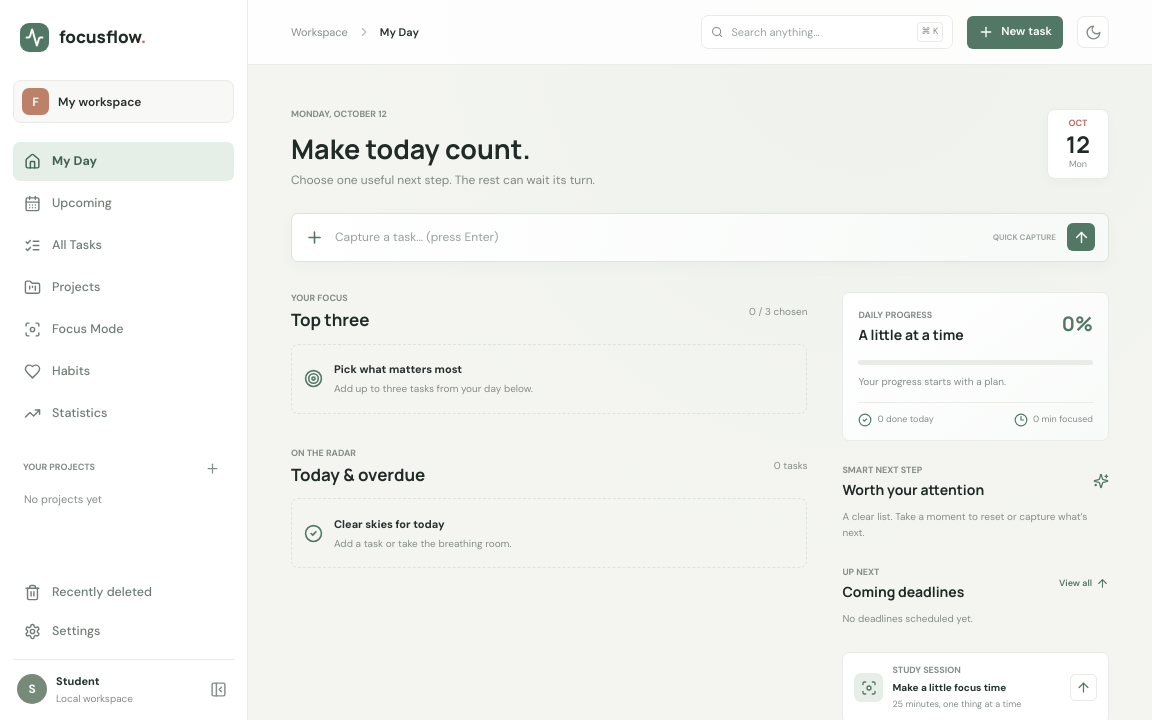
FocusFlow task workflow › starts, pauses, resumes, and resets a focus timer
Click the button "Focus Mode". click: (124, 330)
box: [13,310,234,349]
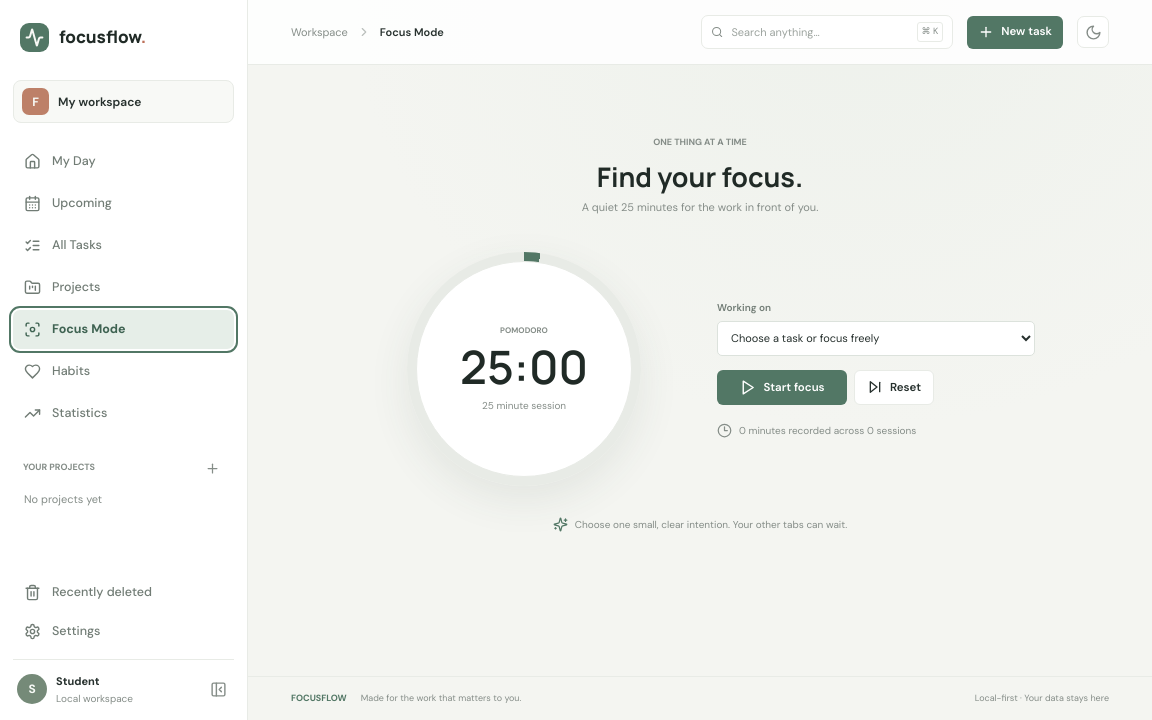
Click the button "Start focus". click: (782, 387)
box: [717,370,847,405]
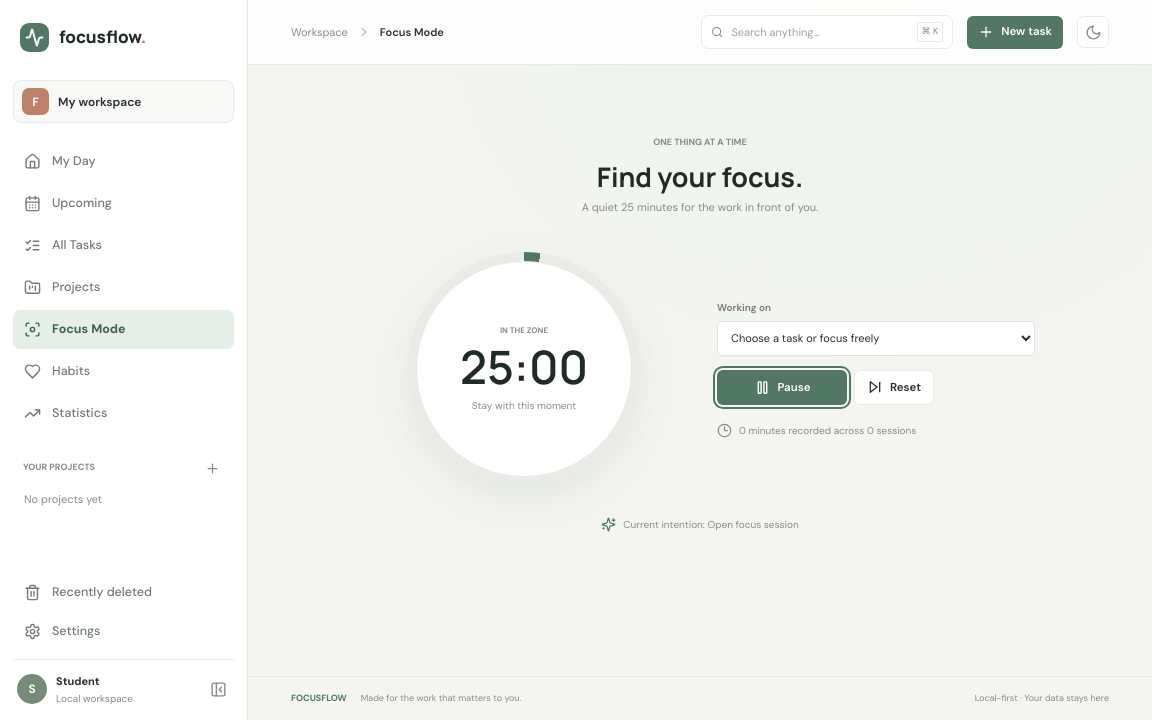
Check: the button "Pause" is shown
Click the button "Pause". click: (782, 387)
box: [717,370,847,405]
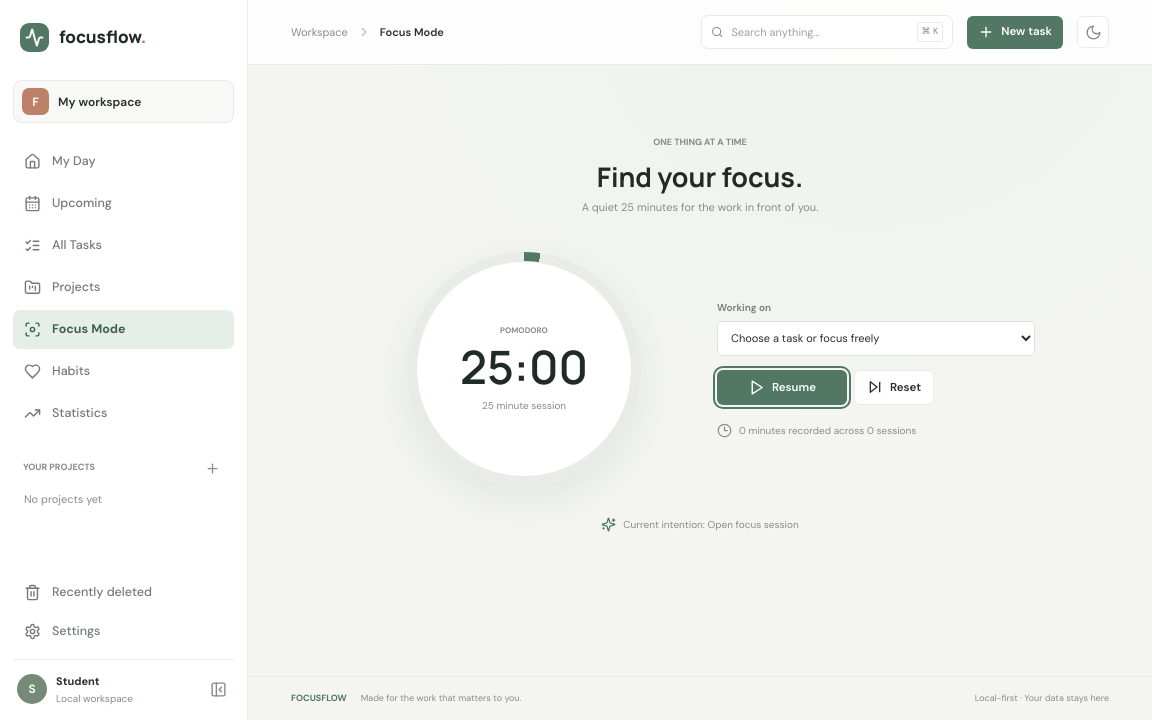
Check: the button "Resume" is shown
Click the button "Resume". click: (782, 387)
box: [717,370,847,405]
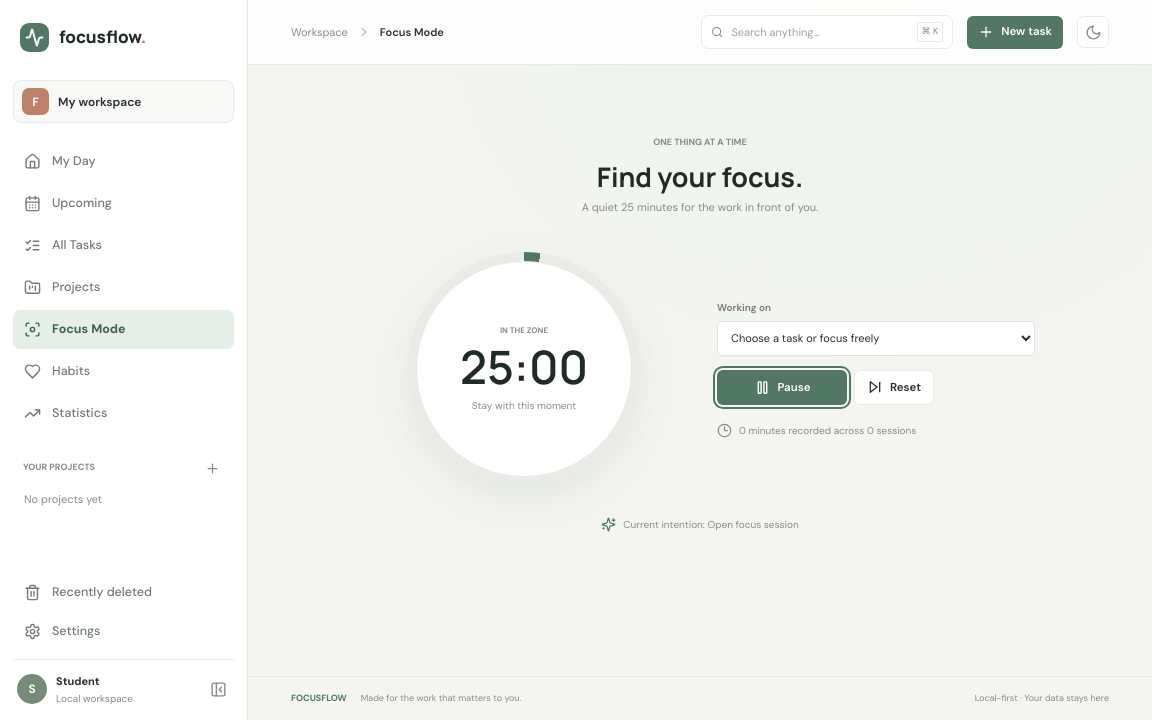
Check: the button "Pause" is shown, box [717,370,847,405]
Click the button "Reset". click: (894, 387)
box: [854,370,934,405]
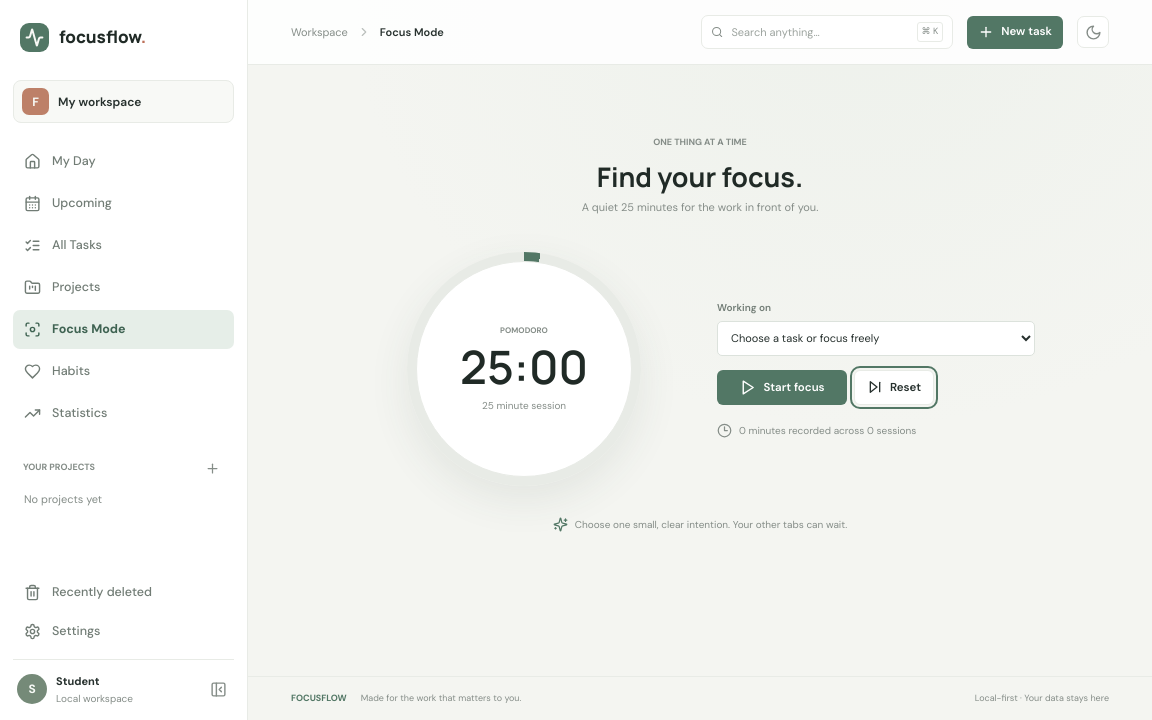
Check: the button "Start focus" is shown, box [717,370,847,405]
